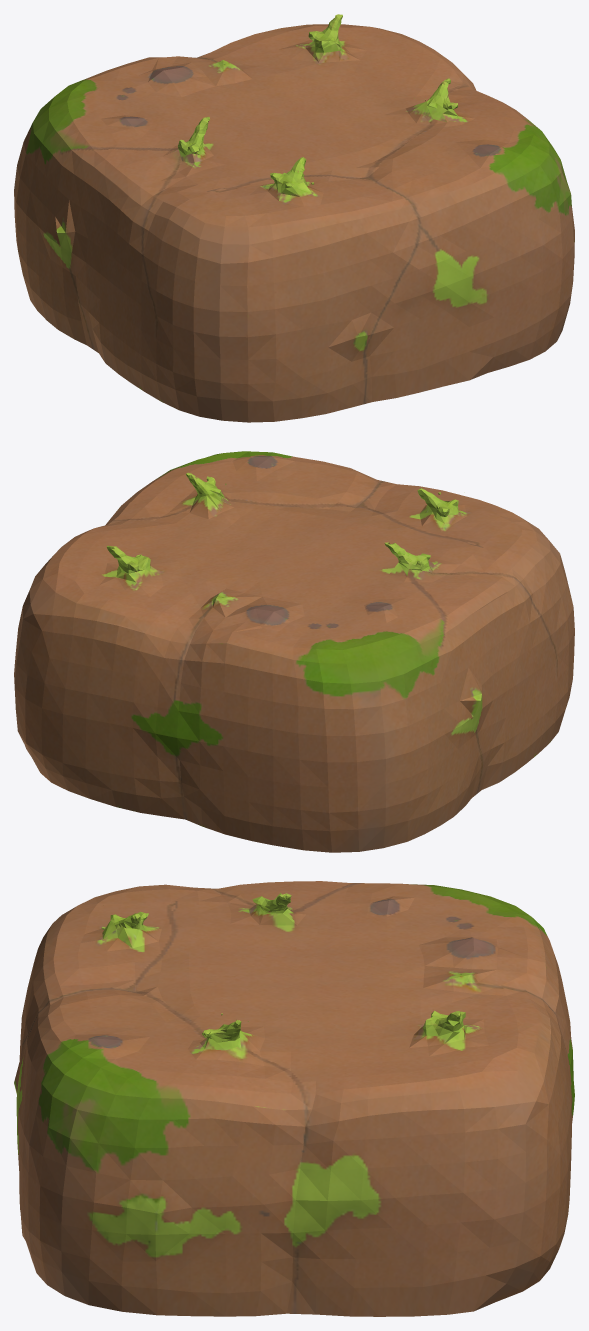
The model's file is Stage_02_Ground_SparseGrass_002.fbx.
3 renders of one model, top to bottom at view 1: azimuth 30°, elevation 25°; view 2: azimuth 150°, elevation 25°; view 3: azimuth 270°, elevation 25°, orthographic. The views are drawn at different scales.
Parts seen in each view (by area): view 1: Stage_02_Ground_SparseGrass_002; view 2: Stage_02_Ground_SparseGrass_002; view 3: Stage_02_Ground_SparseGrass_002.
Boxes of the visible parts, bbox=[...] form: Stage_02_Ground_SparseGrass_002: bbox=[14, 14, 574, 422]; Stage_02_Ground_SparseGrass_002: bbox=[14, 451, 574, 852]; Stage_02_Ground_SparseGrass_002: bbox=[14, 881, 574, 1316].
Size of the model in its own units: 97.49 by 48.07 by 95.92.
